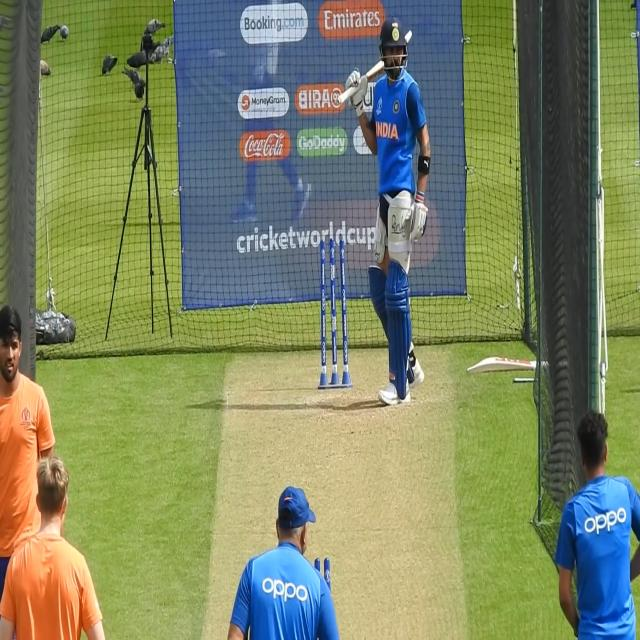stump: (319, 234, 351, 391)
